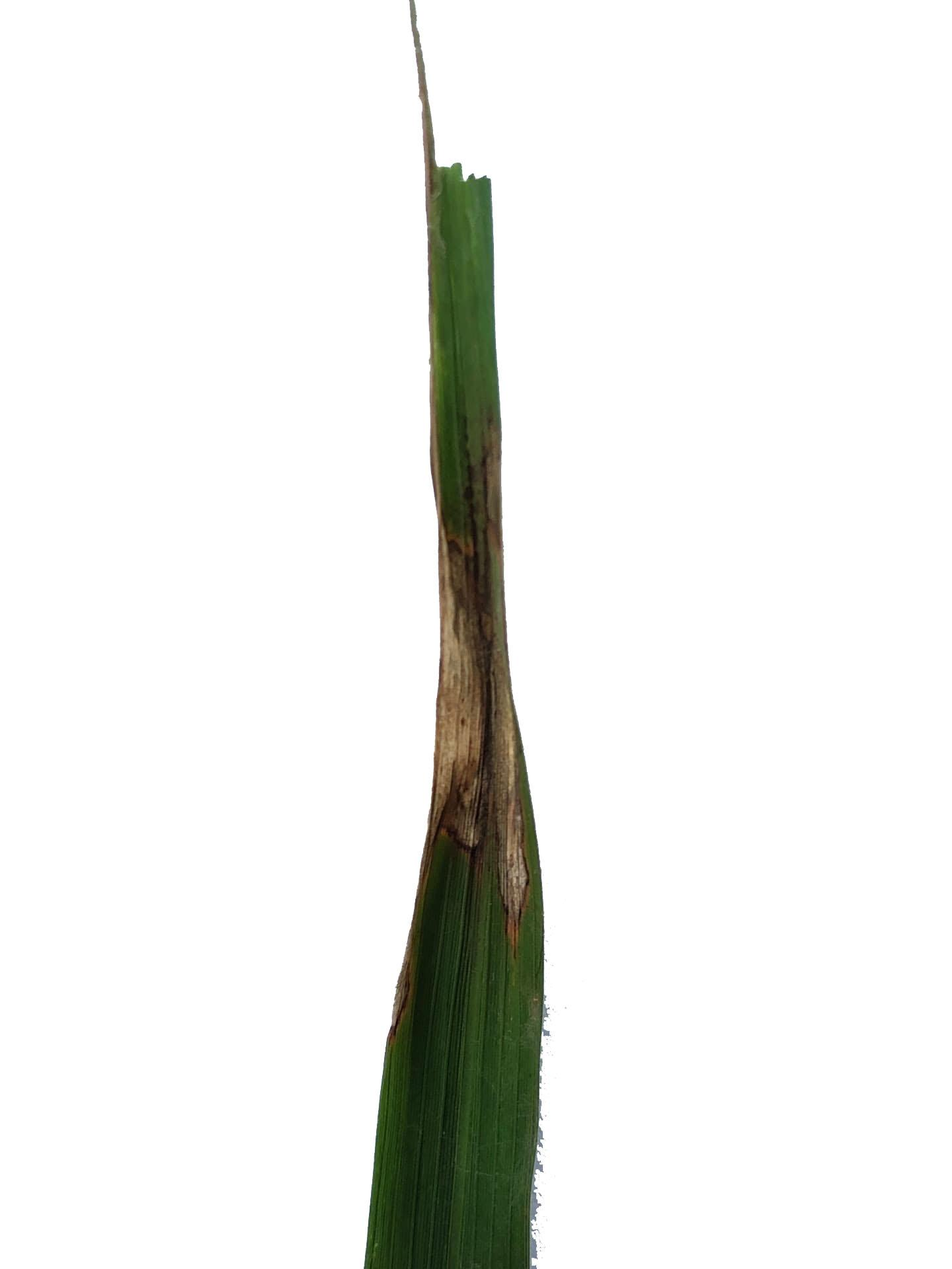Blight: (440, 420, 506, 892)
